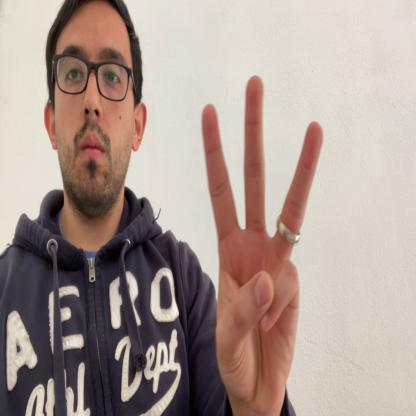W: (201, 72, 322, 416)
